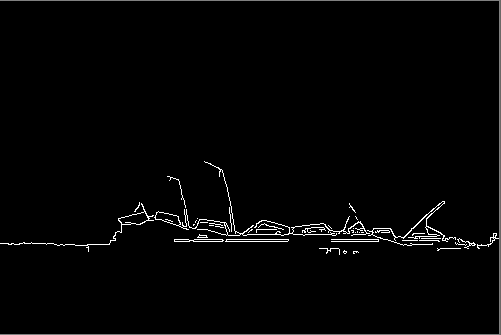opera house: (94, 130, 445, 249)
